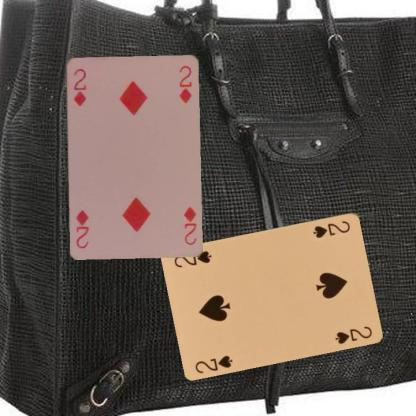2d: (180, 204, 198, 246), (70, 66, 88, 107)
2s: (192, 352, 234, 374), (310, 218, 352, 239)
